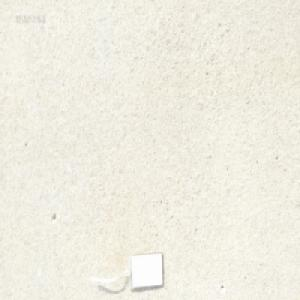LuggageTag: (87, 248, 164, 291)
